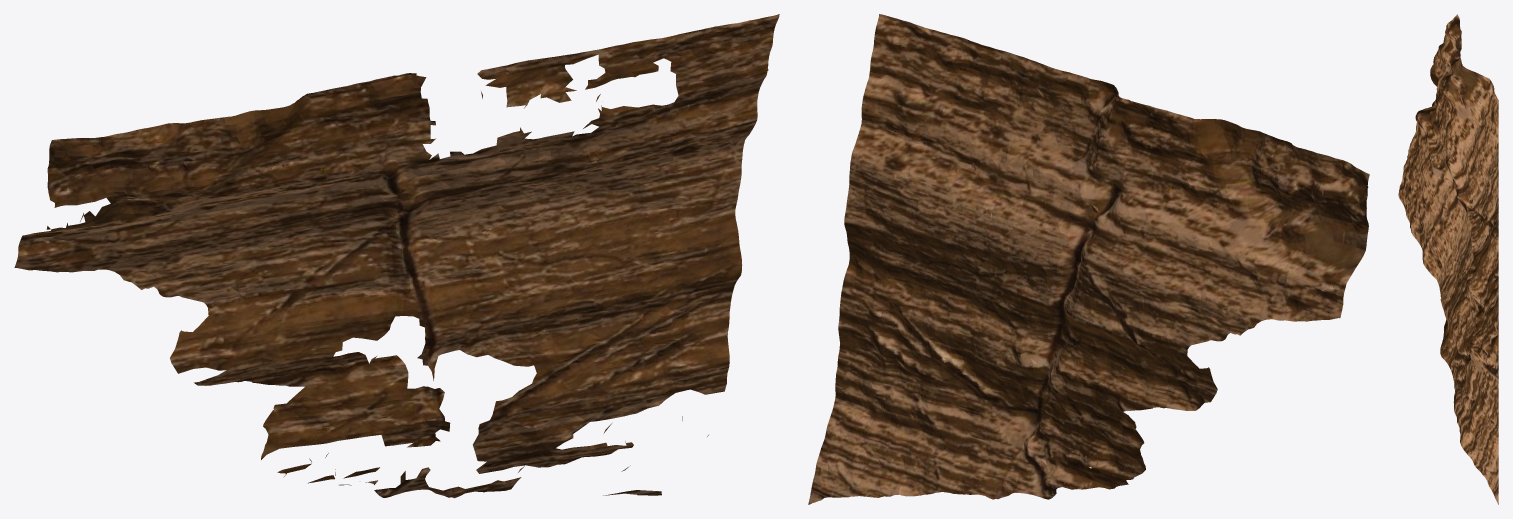
The picture shows the model from 3 angles, left to right: view 1: azimuth 30°, elevation 25°; view 2: azimuth 150°, elevation 25°; view 3: azimuth 270°, elevation 25°; orthographic projection. The views are drawn at different scales.
Bounding box in the file's own units: 1.04 × 0.8234 × 0.2424.
Materials: 2 (2 with a texture image).
